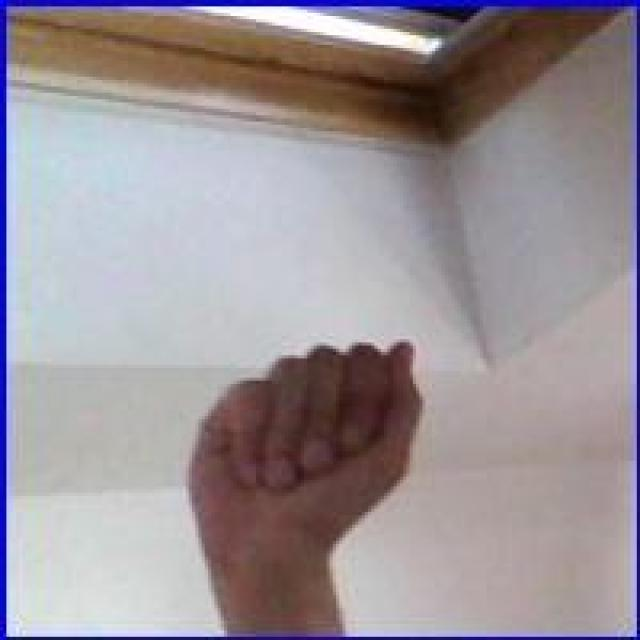A: (187, 338, 424, 606)
